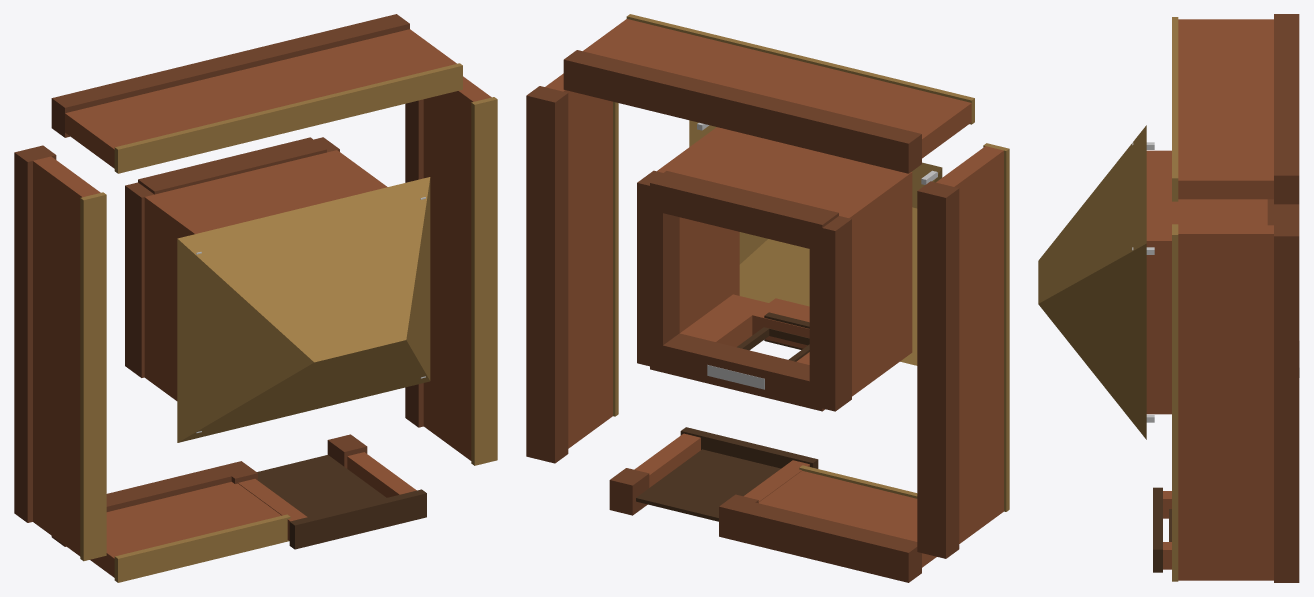
File: CH01_COMPOUND_ASSEMBLED_V1.obj
3 renders of one model, left to right at view 1: azimuth 30°, elevation 25°; view 2: azimuth 150°, elevation 25°; view 3: azimuth 270°, elevation 25°, orthographic. The views are drawn at different scales.
Bounding box in the file's own units: 7.3 × 7.3 × 4.1.
